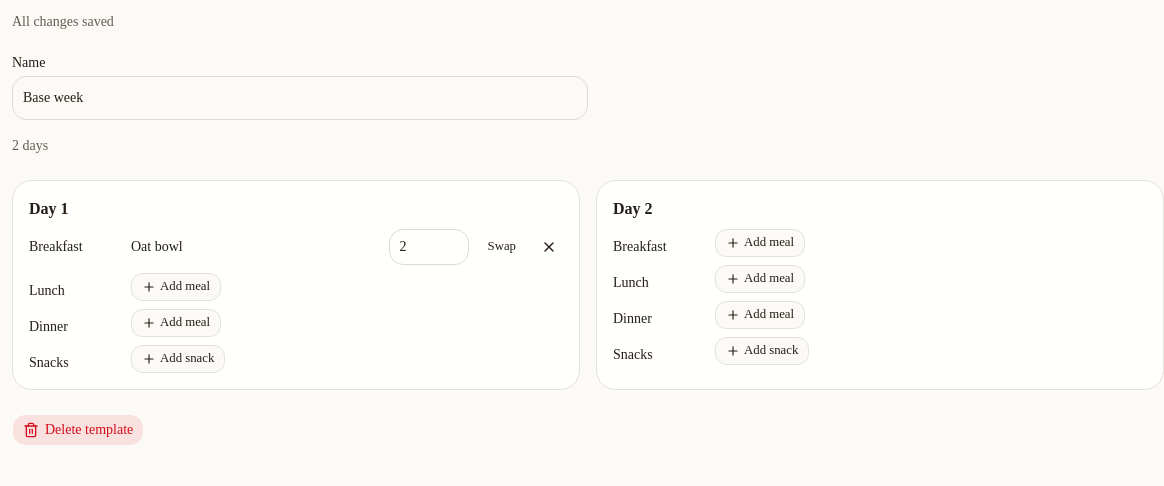
Test: TemplateEditor › flags a portion it cannot use, sends nothing, and keeps what was typed
Step 1. Replace the text in the field named "Portion of breakfast on day 1" with "0" → coordinates (429, 247), box [389, 229, 469, 265]
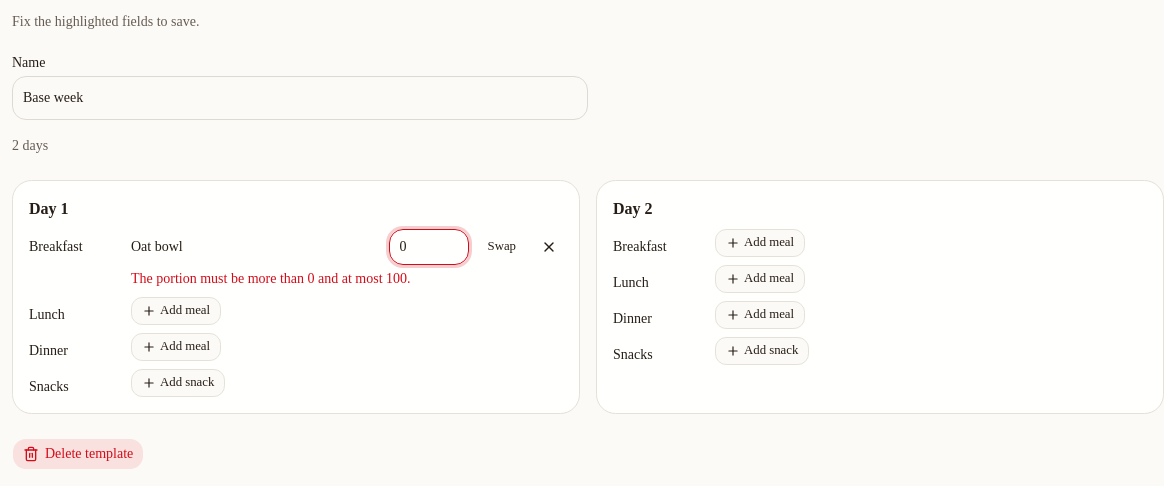
Now the text "The portion must be more than 0 and at most 100." is shown, box [131, 271, 411, 286]
Now the text "Fix the highlighted fields to save." is shown, box [12, 12, 199, 32]
